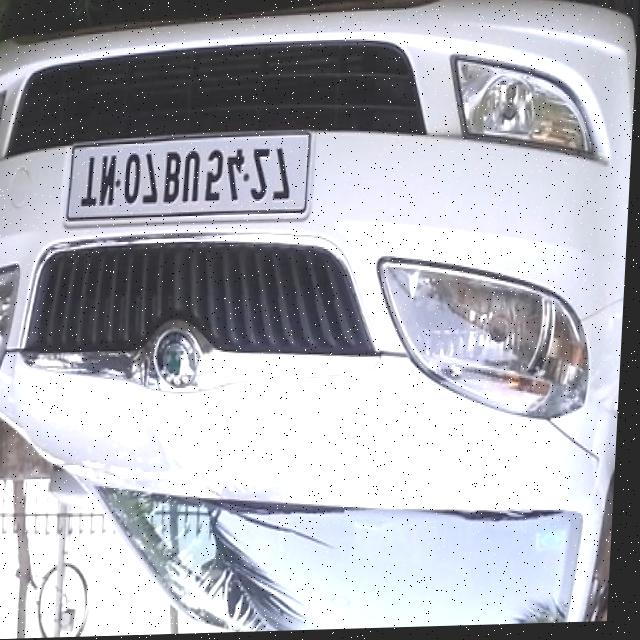plate: (69, 136, 311, 222)
